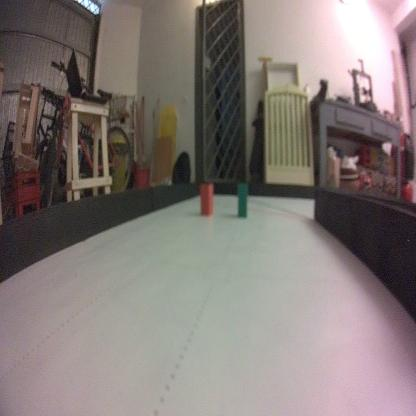green: (236, 182, 248, 219)
red: (199, 182, 214, 218)
